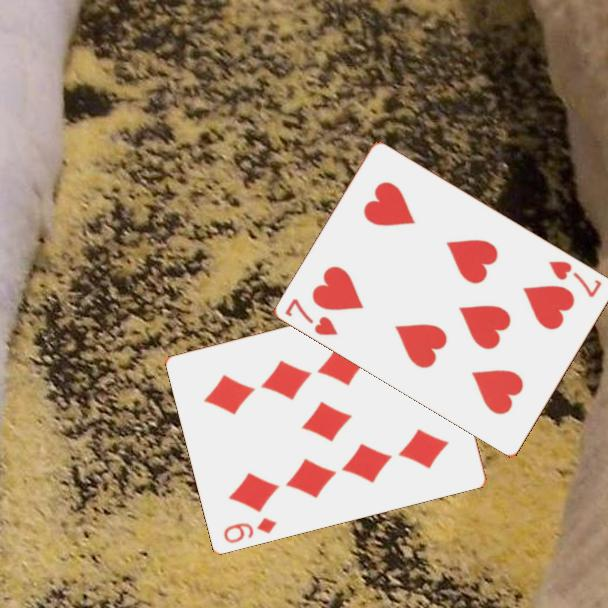d09: (220, 514, 280, 546)
h07: (282, 295, 342, 338), (546, 257, 605, 300)
